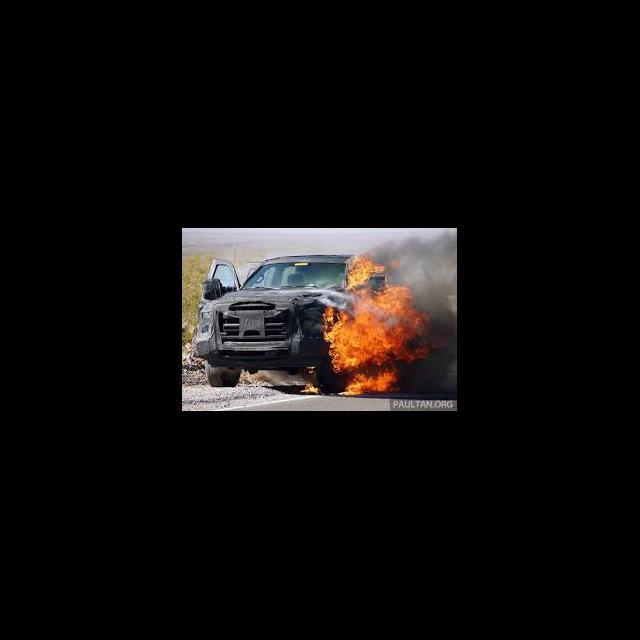Fire: (320, 280, 428, 396)
Smoke: (382, 232, 456, 280), (428, 280, 456, 396)
